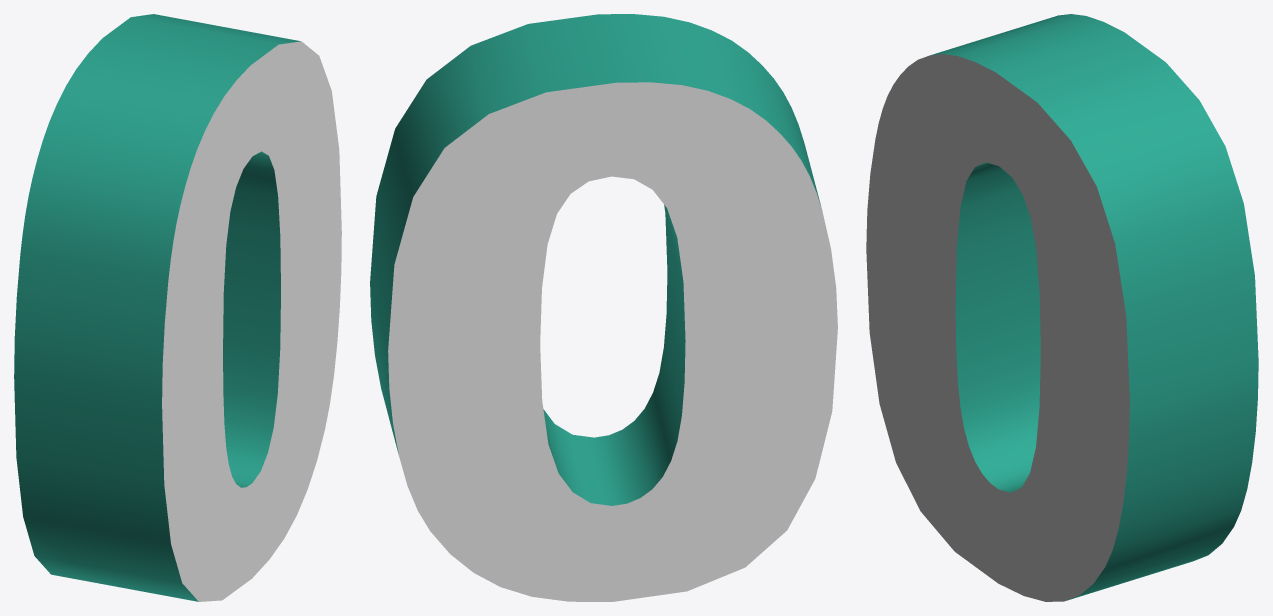
The model's file is textx0xx.gltf.
3 views of the same model, side by side, from view 1: azimuth 30°, elevation 25°; view 2: azimuth 150°, elevation 25°; view 3: azimuth 270°, elevation 25° (orthographic).
Visible parts, largest first — view 1: polySurface10; view 2: polySurface10; view 3: polySurface10.
Boxes of the visible parts, box(x1,y1,x2,y2) form: polySurface10: box(14, 14, 341, 601); polySurface10: box(370, 14, 837, 601); polySurface10: box(866, 14, 1258, 601).
Size of the model in its own units: 0.0629 by 0.0781 by 0.0545.
1 material, 1 textured.
